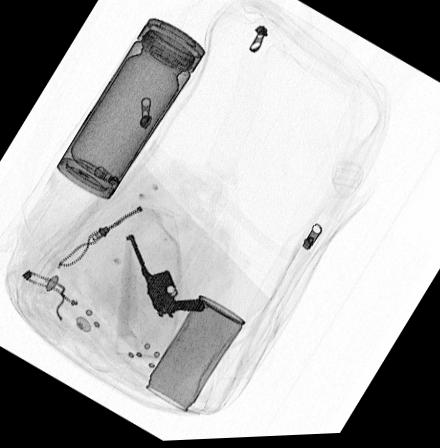Gun: (124, 234, 206, 323)
